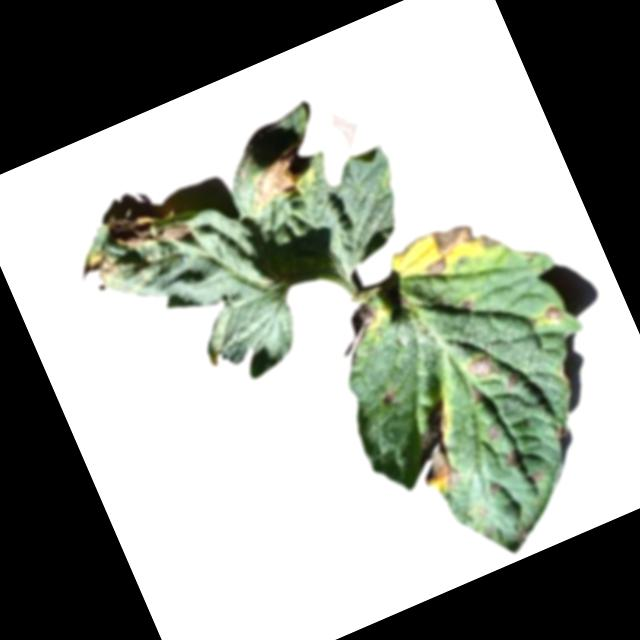Early_blight: (408, 207, 502, 283), (101, 190, 194, 264), (398, 406, 473, 493), (235, 141, 315, 211), (325, 297, 391, 363), (71, 243, 125, 297), (464, 345, 501, 383), (498, 445, 525, 472), (539, 301, 564, 324), (481, 424, 504, 447), (503, 368, 523, 392), (375, 385, 398, 405), (526, 467, 545, 484), (458, 294, 476, 311), (484, 481, 501, 496)
